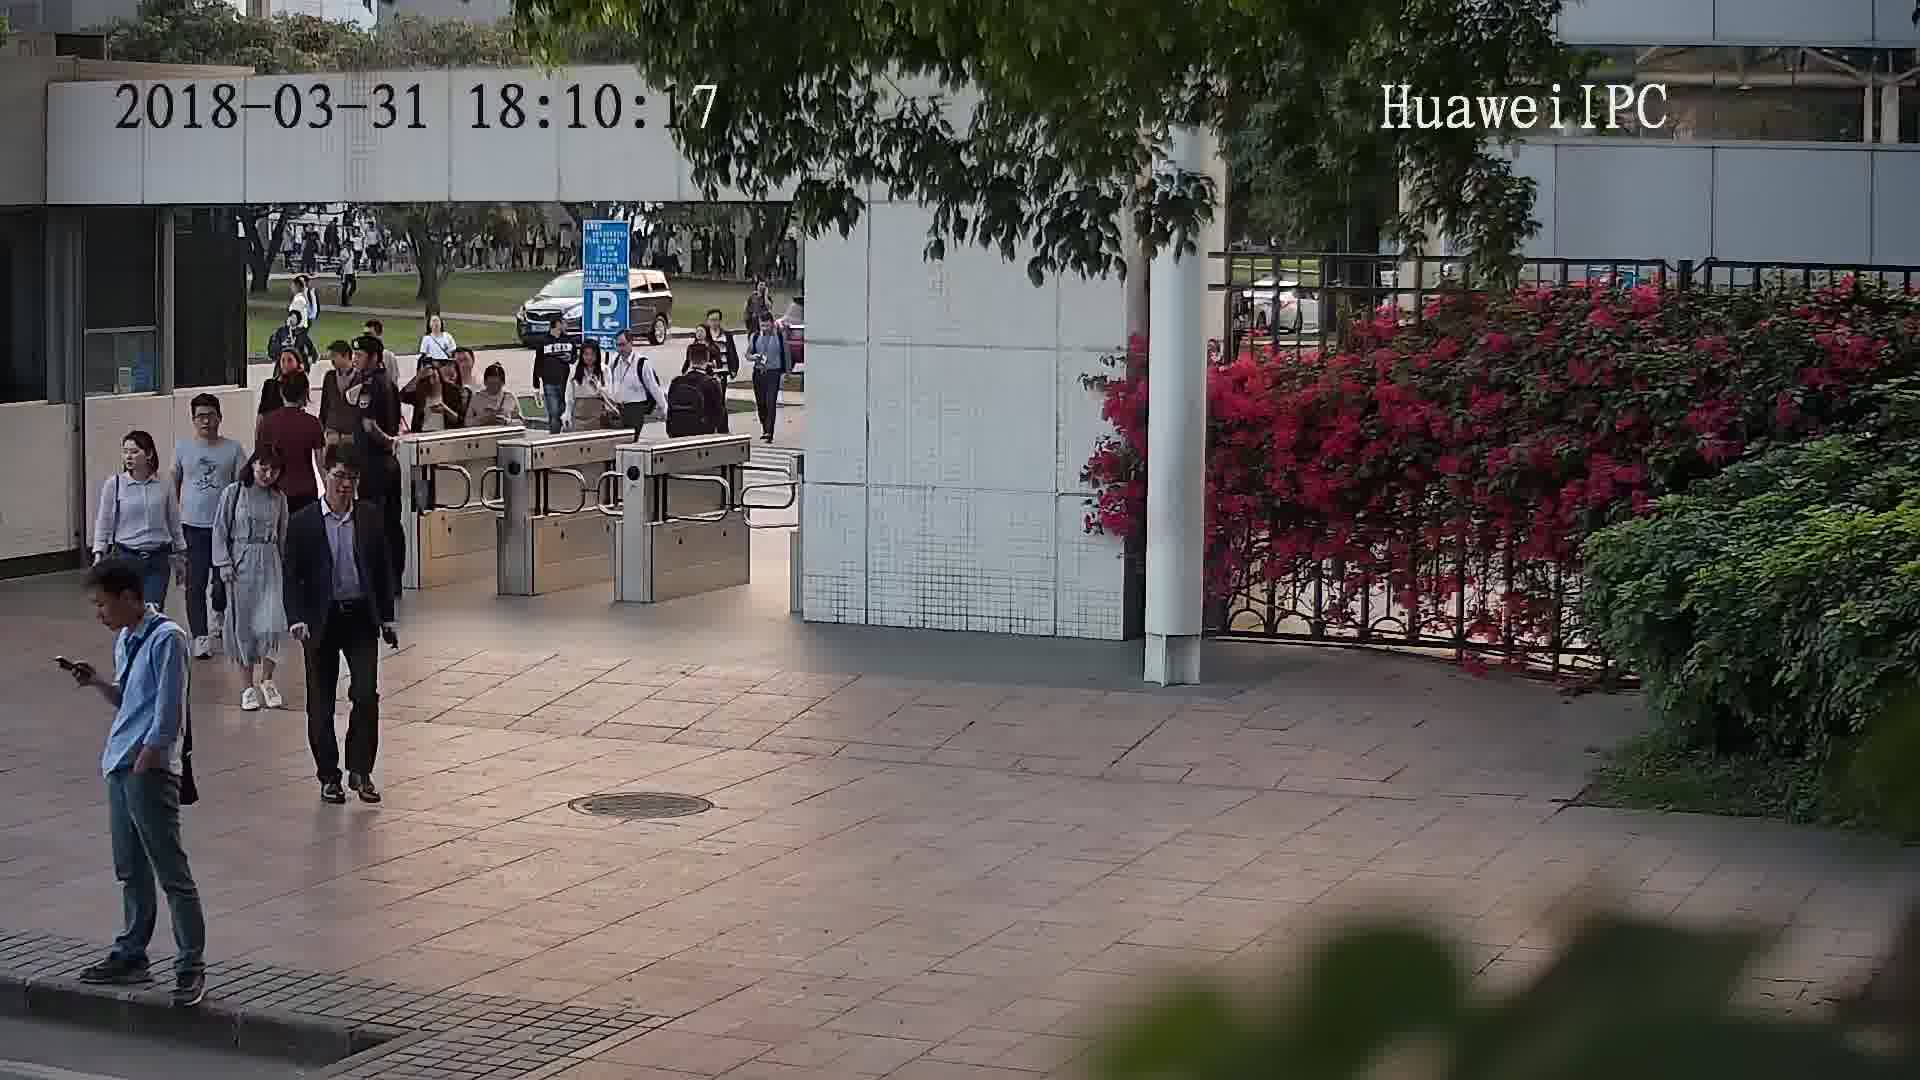face: (78, 576, 134, 632)
person: (89, 562, 185, 666), (297, 442, 379, 537), (101, 428, 176, 501), (178, 392, 243, 457), (226, 445, 293, 506), (258, 371, 319, 433), (349, 333, 392, 394), (321, 334, 364, 391), (404, 361, 461, 401), (673, 341, 718, 388), (433, 337, 473, 386), (472, 363, 518, 404), (570, 339, 610, 381), (608, 327, 648, 368), (274, 307, 316, 340), (419, 308, 453, 343), (751, 312, 784, 345), (698, 307, 731, 340), (538, 315, 572, 345), (289, 270, 317, 303), (749, 273, 776, 301)
